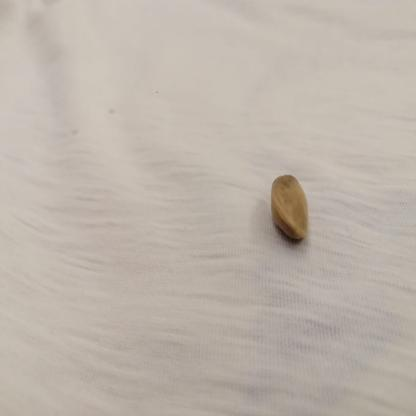pistachio: (257, 171, 325, 252)
